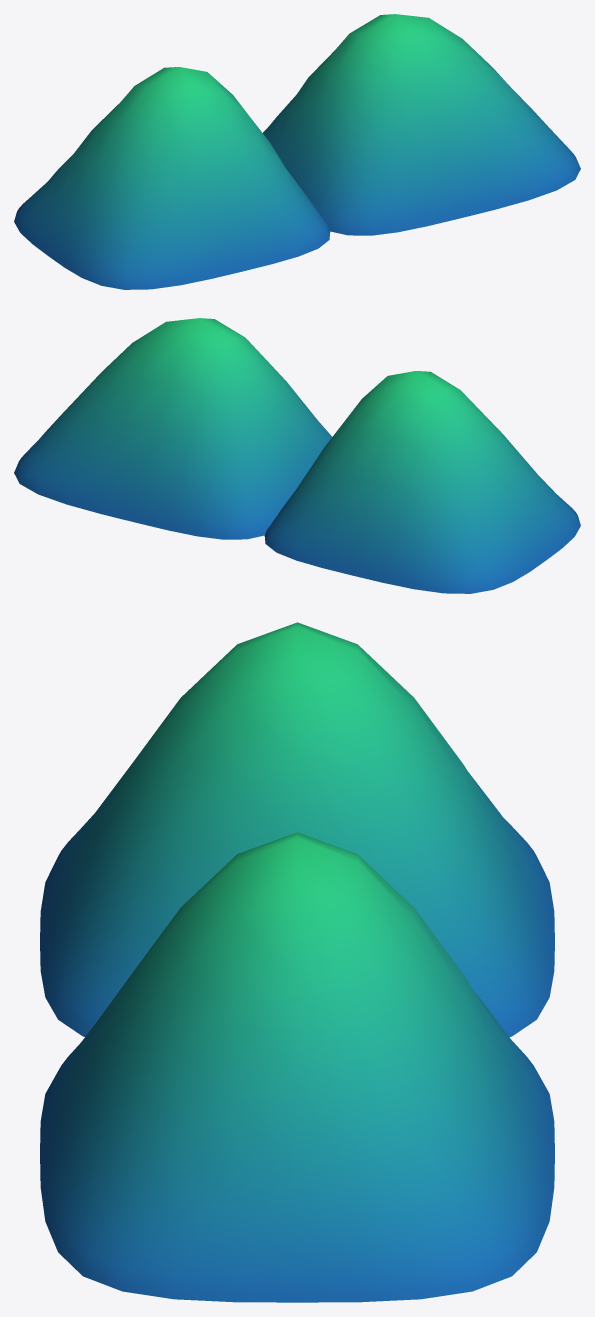
The model's file is Gunung.fbx.
The picture shows the model from 3 angles, top to bottom: view 1: azimuth 30°, elevation 25°; view 2: azimuth 150°, elevation 25°; view 3: azimuth 270°, elevation 25°; orthographic projection. The views are drawn at different scales.
Visible parts, largest first — view 1: Plane.002, Plane.003; view 2: Plane.002, Plane.003; view 3: Plane.002, Plane.003.
Boxes of the visible parts, x1,y1,x2,y2 form: Plane.002: (263,14,580,235); Plane.003: (14,67,330,289); Plane.002: (14,318,331,539); Plane.003: (264,371,580,593); Plane.002: (40,832,554,1302); Plane.003: (40,622,554,1036).
Size of the model in its own units: 8734 by 2626 by 3894.
Materials: 1 (1 with a texture image).
